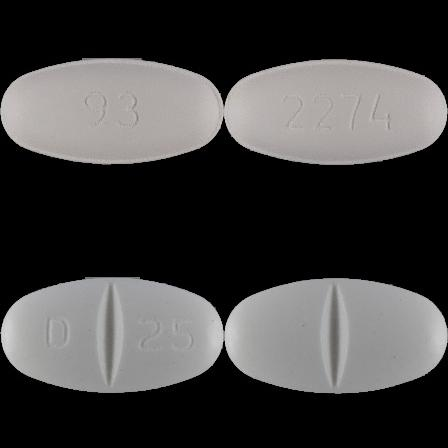33261-112: (0, 0, 224, 224)
